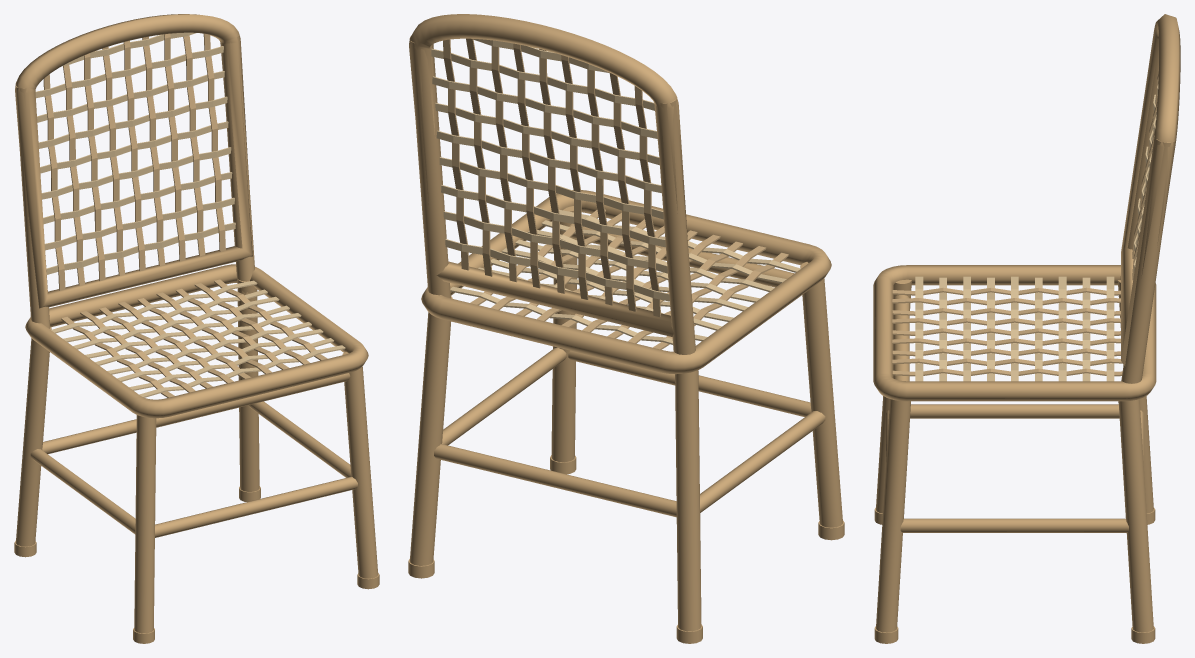
Rendered from wicker_dining_chair.glb.
The picture shows the model from 3 angles, left to right: view 1: azimuth 30°, elevation 25°; view 2: azimuth 150°, elevation 25°; view 3: azimuth 270°, elevation 25°; orthographic projection. The views are drawn at different scales.
Visible parts, largest first — view 1: Dining chair arched woven back rim, Dining chair rounded seat frame, Dining chair sturdy cane leg, Dining chair sturdy cane leg.002, Dining chair sturdy cane leg.001, Dining chair cross leg stretcher, Dining chair sturdy cane leg.003, Dining chair continuous rear back support.001, Dining chair side leg stretcher, Dining chair underseat front rail, Dining chair side leg stretcher.001, Dining chair continuous rear back support (+37 smaller); view 2: Dining chair rounded seat frame, Dining chair arched woven back rim, Dining chair sturdy cane leg.001, Dining chair sturdy cane leg.003, Dining chair sturdy cane leg, Dining chair continuous rear back support, Dining chair continuous rear back support.001, Dining chair cross leg stretcher.001, Dining chair cross leg stretcher, Dining chair sturdy cane leg.002, Dining chair side leg stretcher, Dining chair side leg stretcher.001 (+28 smaller); view 3: Dining chair rounded seat frame, Dining chair arched woven back rim, Dining chair sturdy cane leg.002, Dining chair sturdy cane leg.003, Dining chair continuous rear back support.001, Dining chair side leg stretcher.001, Dining chair side leg stretcher, Dining chair continuous rear back support, Dining chair seat warp 07, Dining chair seat warp 05, Dining chair seat warp 03, Dining chair seat warp 01 (+17 smaller).
Boxes of the visible parts, box(x1,y1,x2,y2) form: Dining chair arched woven back rim: box(15, 14, 252, 308); Dining chair rounded seat frame: box(25, 264, 368, 418); Dining chair sturdy cane leg: box(134, 415, 156, 633); Dining chair sturdy cane leg.002: box(342, 351, 378, 578); Dining chair sturdy cane leg.001: box(15, 327, 51, 546); Dining chair cross leg stretcher: box(155, 476, 357, 537); Dining chair sturdy cane leg.003: box(237, 279, 259, 491); Dining chair continuous rear back support.001: box(222, 35, 254, 295); Dining chair side leg stretcher: box(30, 449, 135, 534); Dining chair underseat front rail: box(156, 373, 350, 427); Dining chair side leg stretcher.001: box(248, 401, 351, 477); Dining chair continuous rear back support: box(15, 86, 50, 328); Dining chair rounded seat frame: box(421, 190, 831, 374); Dining chair arched woven back rim: box(409, 14, 687, 336); Dining chair sturdy cane leg.001: box(675, 370, 701, 631); Dining chair sturdy cane leg.003: box(410, 296, 452, 565); Dining chair sturdy cane leg: box(800, 262, 842, 527); Dining chair continuous rear back support: box(656, 97, 695, 354); Dining chair continuous rear back support.001: box(409, 35, 450, 298); Dining chair cross leg stretcher.001: box(434, 444, 676, 517); Dining chair cross leg stretcher: box(568, 350, 811, 416); Dining chair sturdy cane leg.002: box(551, 206, 577, 462); Dining chair side leg stretcher: box(700, 411, 825, 512); Dining chair side leg stretcher.001: box(442, 347, 566, 445); Dining chair rounded seat frame: box(873, 265, 1156, 401); Dining chair arched woven back rim: box(1121, 14, 1180, 366); Dining chair sturdy cane leg.002: box(876, 399, 910, 632); Dining chair sturdy cane leg.003: box(1118, 399, 1153, 632); Dining chair continuous rear back support.001: box(1118, 139, 1175, 403); Dining chair side leg stretcher.001: box(900, 518, 1128, 532); Dining chair side leg stretcher: box(910, 404, 1119, 418); Dining chair continuous rear back support: box(1119, 36, 1158, 296); Dining chair seat warp 07: box(892, 358, 1122, 365); Dining chair seat warp 05: box(892, 338, 1120, 345); Dining chair seat warp 03: box(892, 318, 1120, 325); Dining chair seat warp 01: box(892, 298, 1120, 305).
Size of the model in its own units: 0.51 by 0.9886 by 0.5145.
